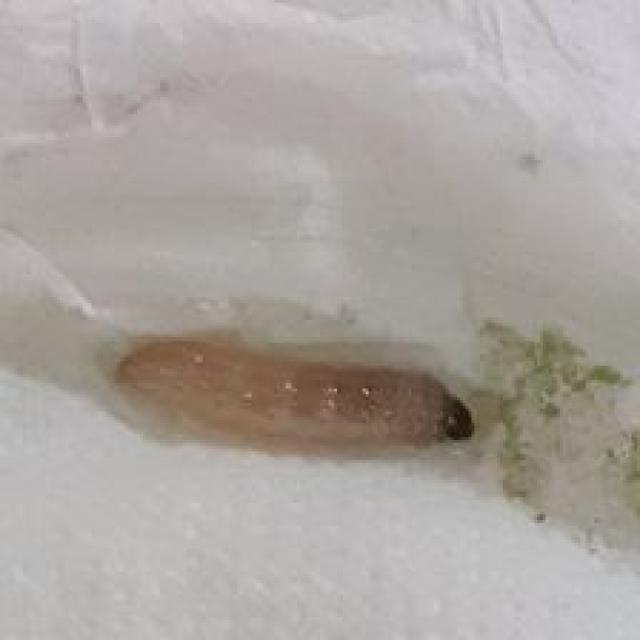white mucus: (85, 320, 492, 479)
